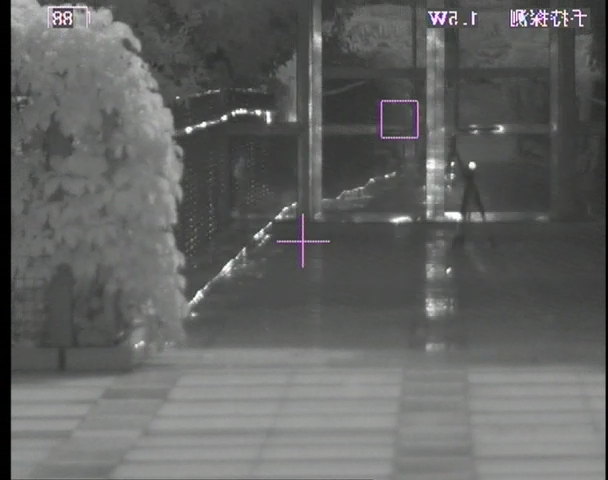my: (468, 161, 477, 170)
